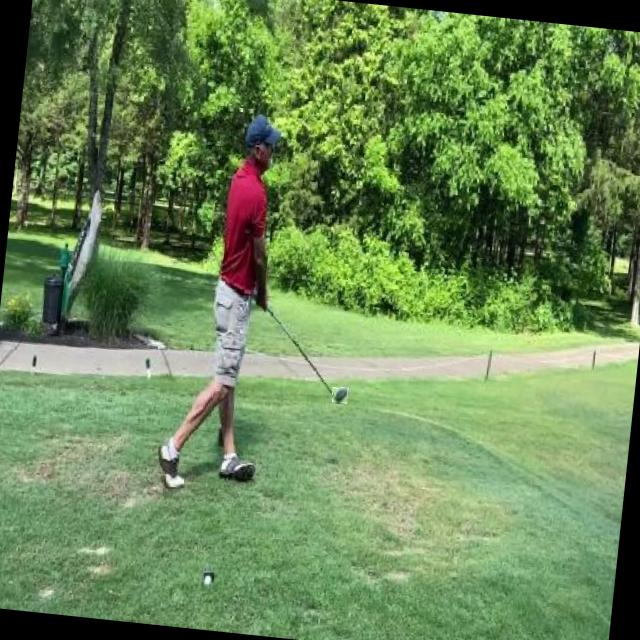club head: (332, 386, 348, 404)
